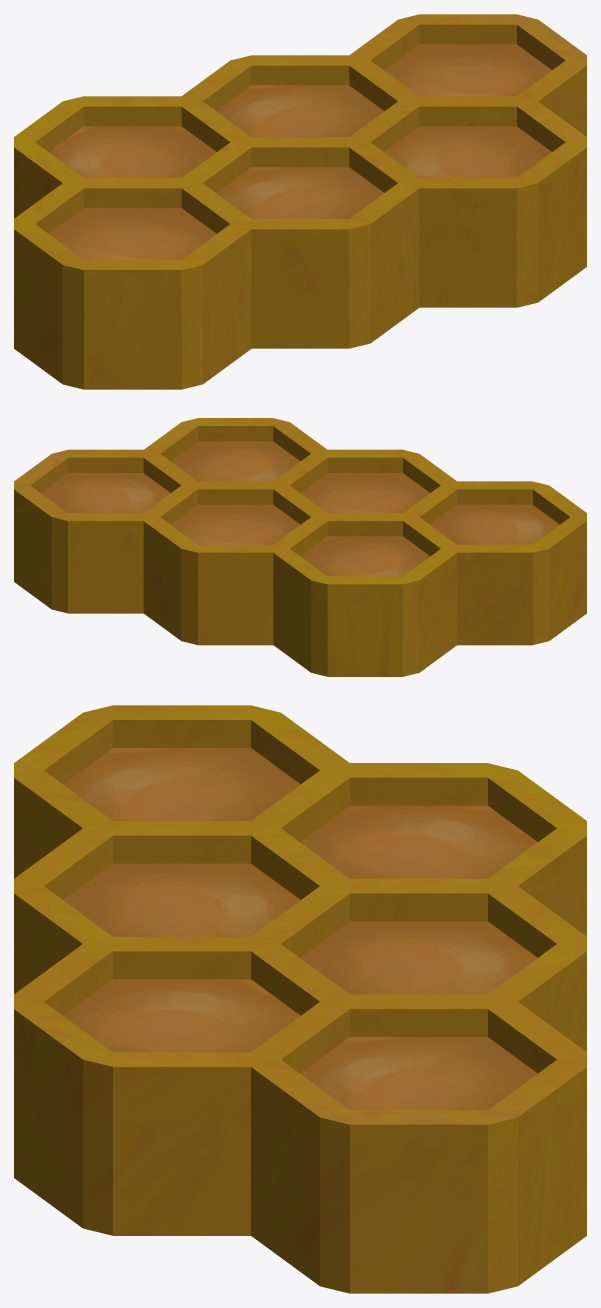
Rendered from model_favomel_02.fbx.
3 views of the same model, one above another, from view 1: azimuth 30°, elevation 25°; view 2: azimuth 150°, elevation 25°; view 3: azimuth 270°, elevation 25° (orthographic). The views are drawn at different scales.
Visible parts, largest first — view 1: Favo de Mel1.002; view 2: Favo de Mel1.002; view 3: Favo de Mel1.002.
Boxes of the visible parts, <box> form: Favo de Mel1.002: <box>14,14,586,389</box>; Favo de Mel1.002: <box>14,418,586,676</box>; Favo de Mel1.002: <box>14,705,586,1293</box>.
Size of the model in its own units: 0.8551 by 0.1606 by 0.4937.
1 material, 1 textured.
